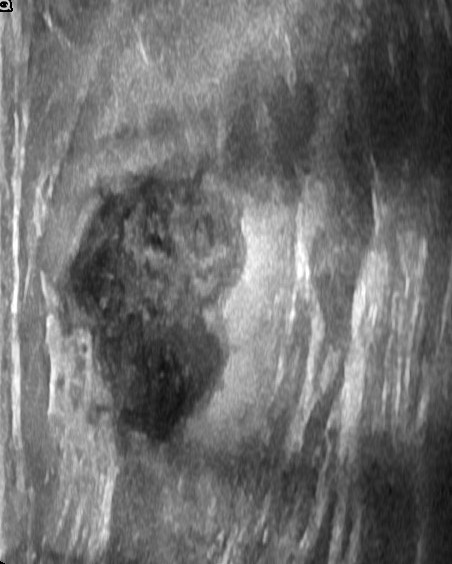Benign: (72, 188, 244, 428)
